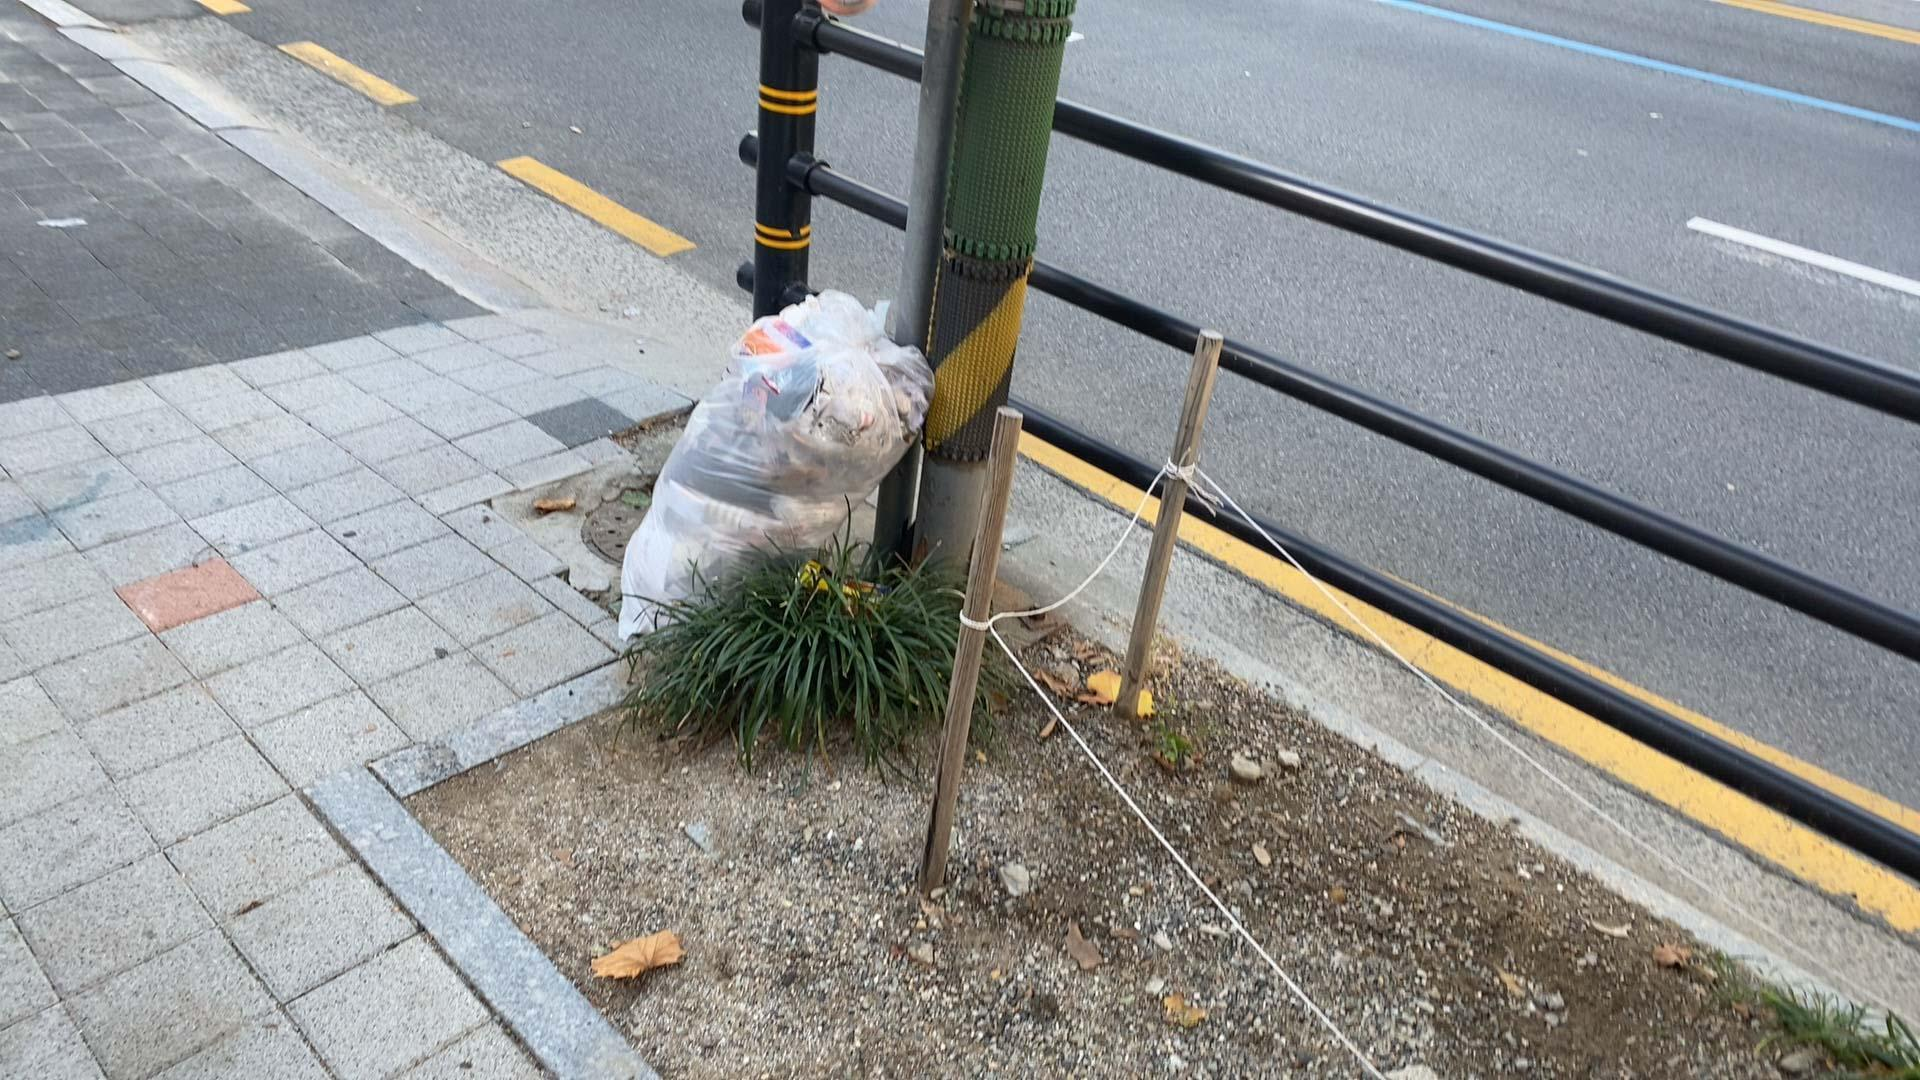white_bag: (609, 277, 942, 684)
